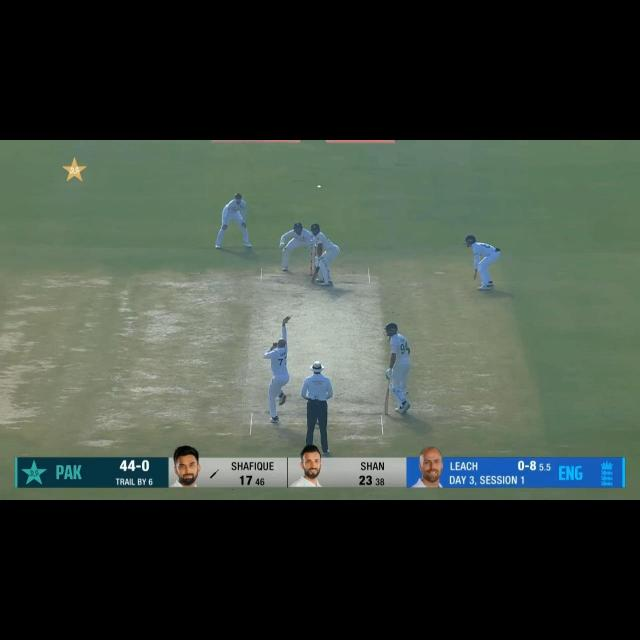bat: (383, 384, 390, 416), (310, 265, 319, 284)
toe: (383, 406, 390, 414), (309, 278, 315, 284)
